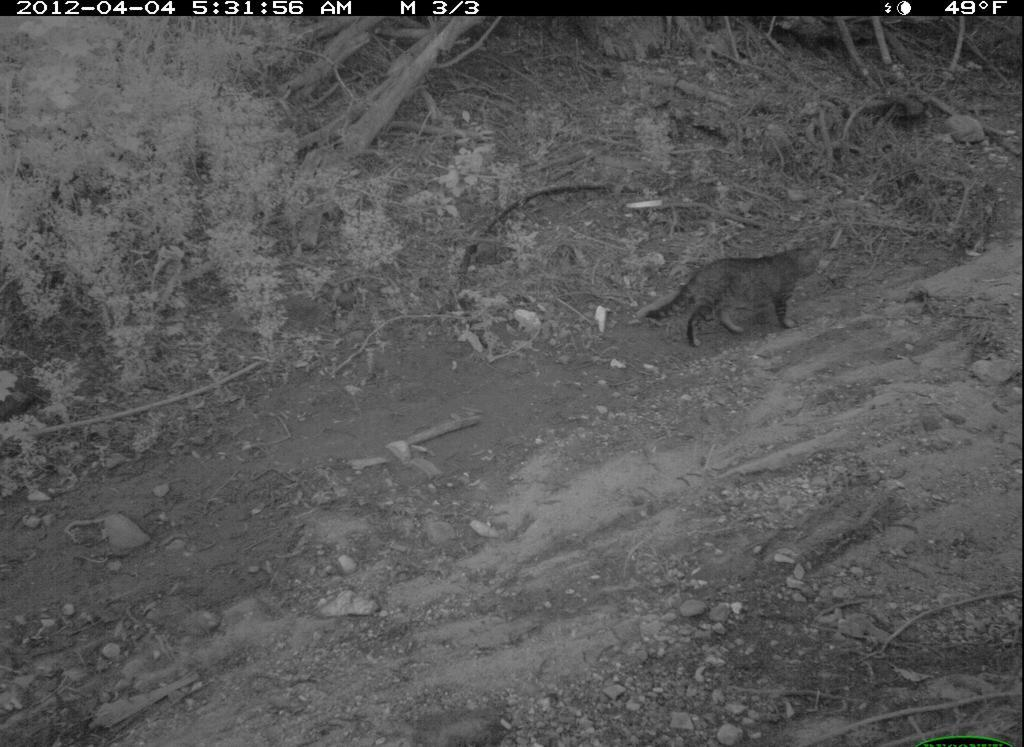cat: (639, 230, 830, 355)
